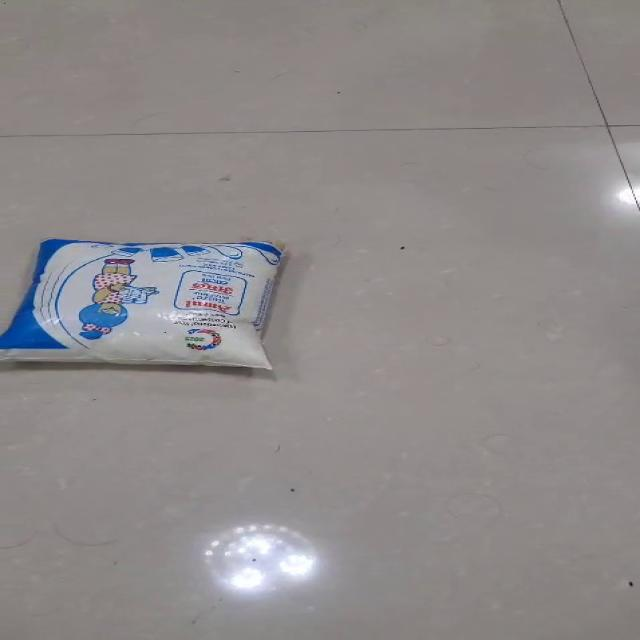plastic: (0, 237, 287, 371)
